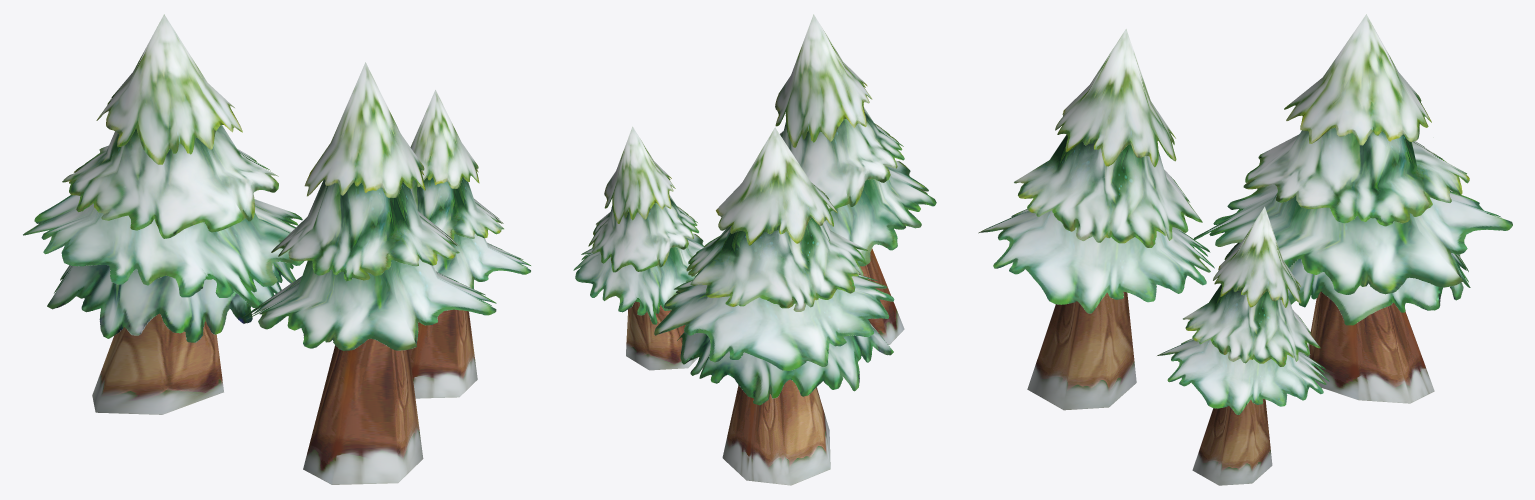
Rendered from SM_tree_01.fbx.
3 views of the same model, side by side, from view 1: azimuth 30°, elevation 25°; view 2: azimuth 150°, elevation 25°; view 3: azimuth 270°, elevation 25° (orthographic). The views are drawn at different scales.
Parts seen in each view (by area): view 1: SM_tree_01; view 2: SM_tree_01; view 3: SM_tree_01.
Boxes of the visible parts, bbox=[...] form: SM_tree_01: bbox=[23, 14, 530, 484]; SM_tree_01: bbox=[573, 14, 936, 485]; SM_tree_01: bbox=[978, 14, 1512, 485].
Bounding box in the file's own units: 2.97 × 2.72 × 3.36.
